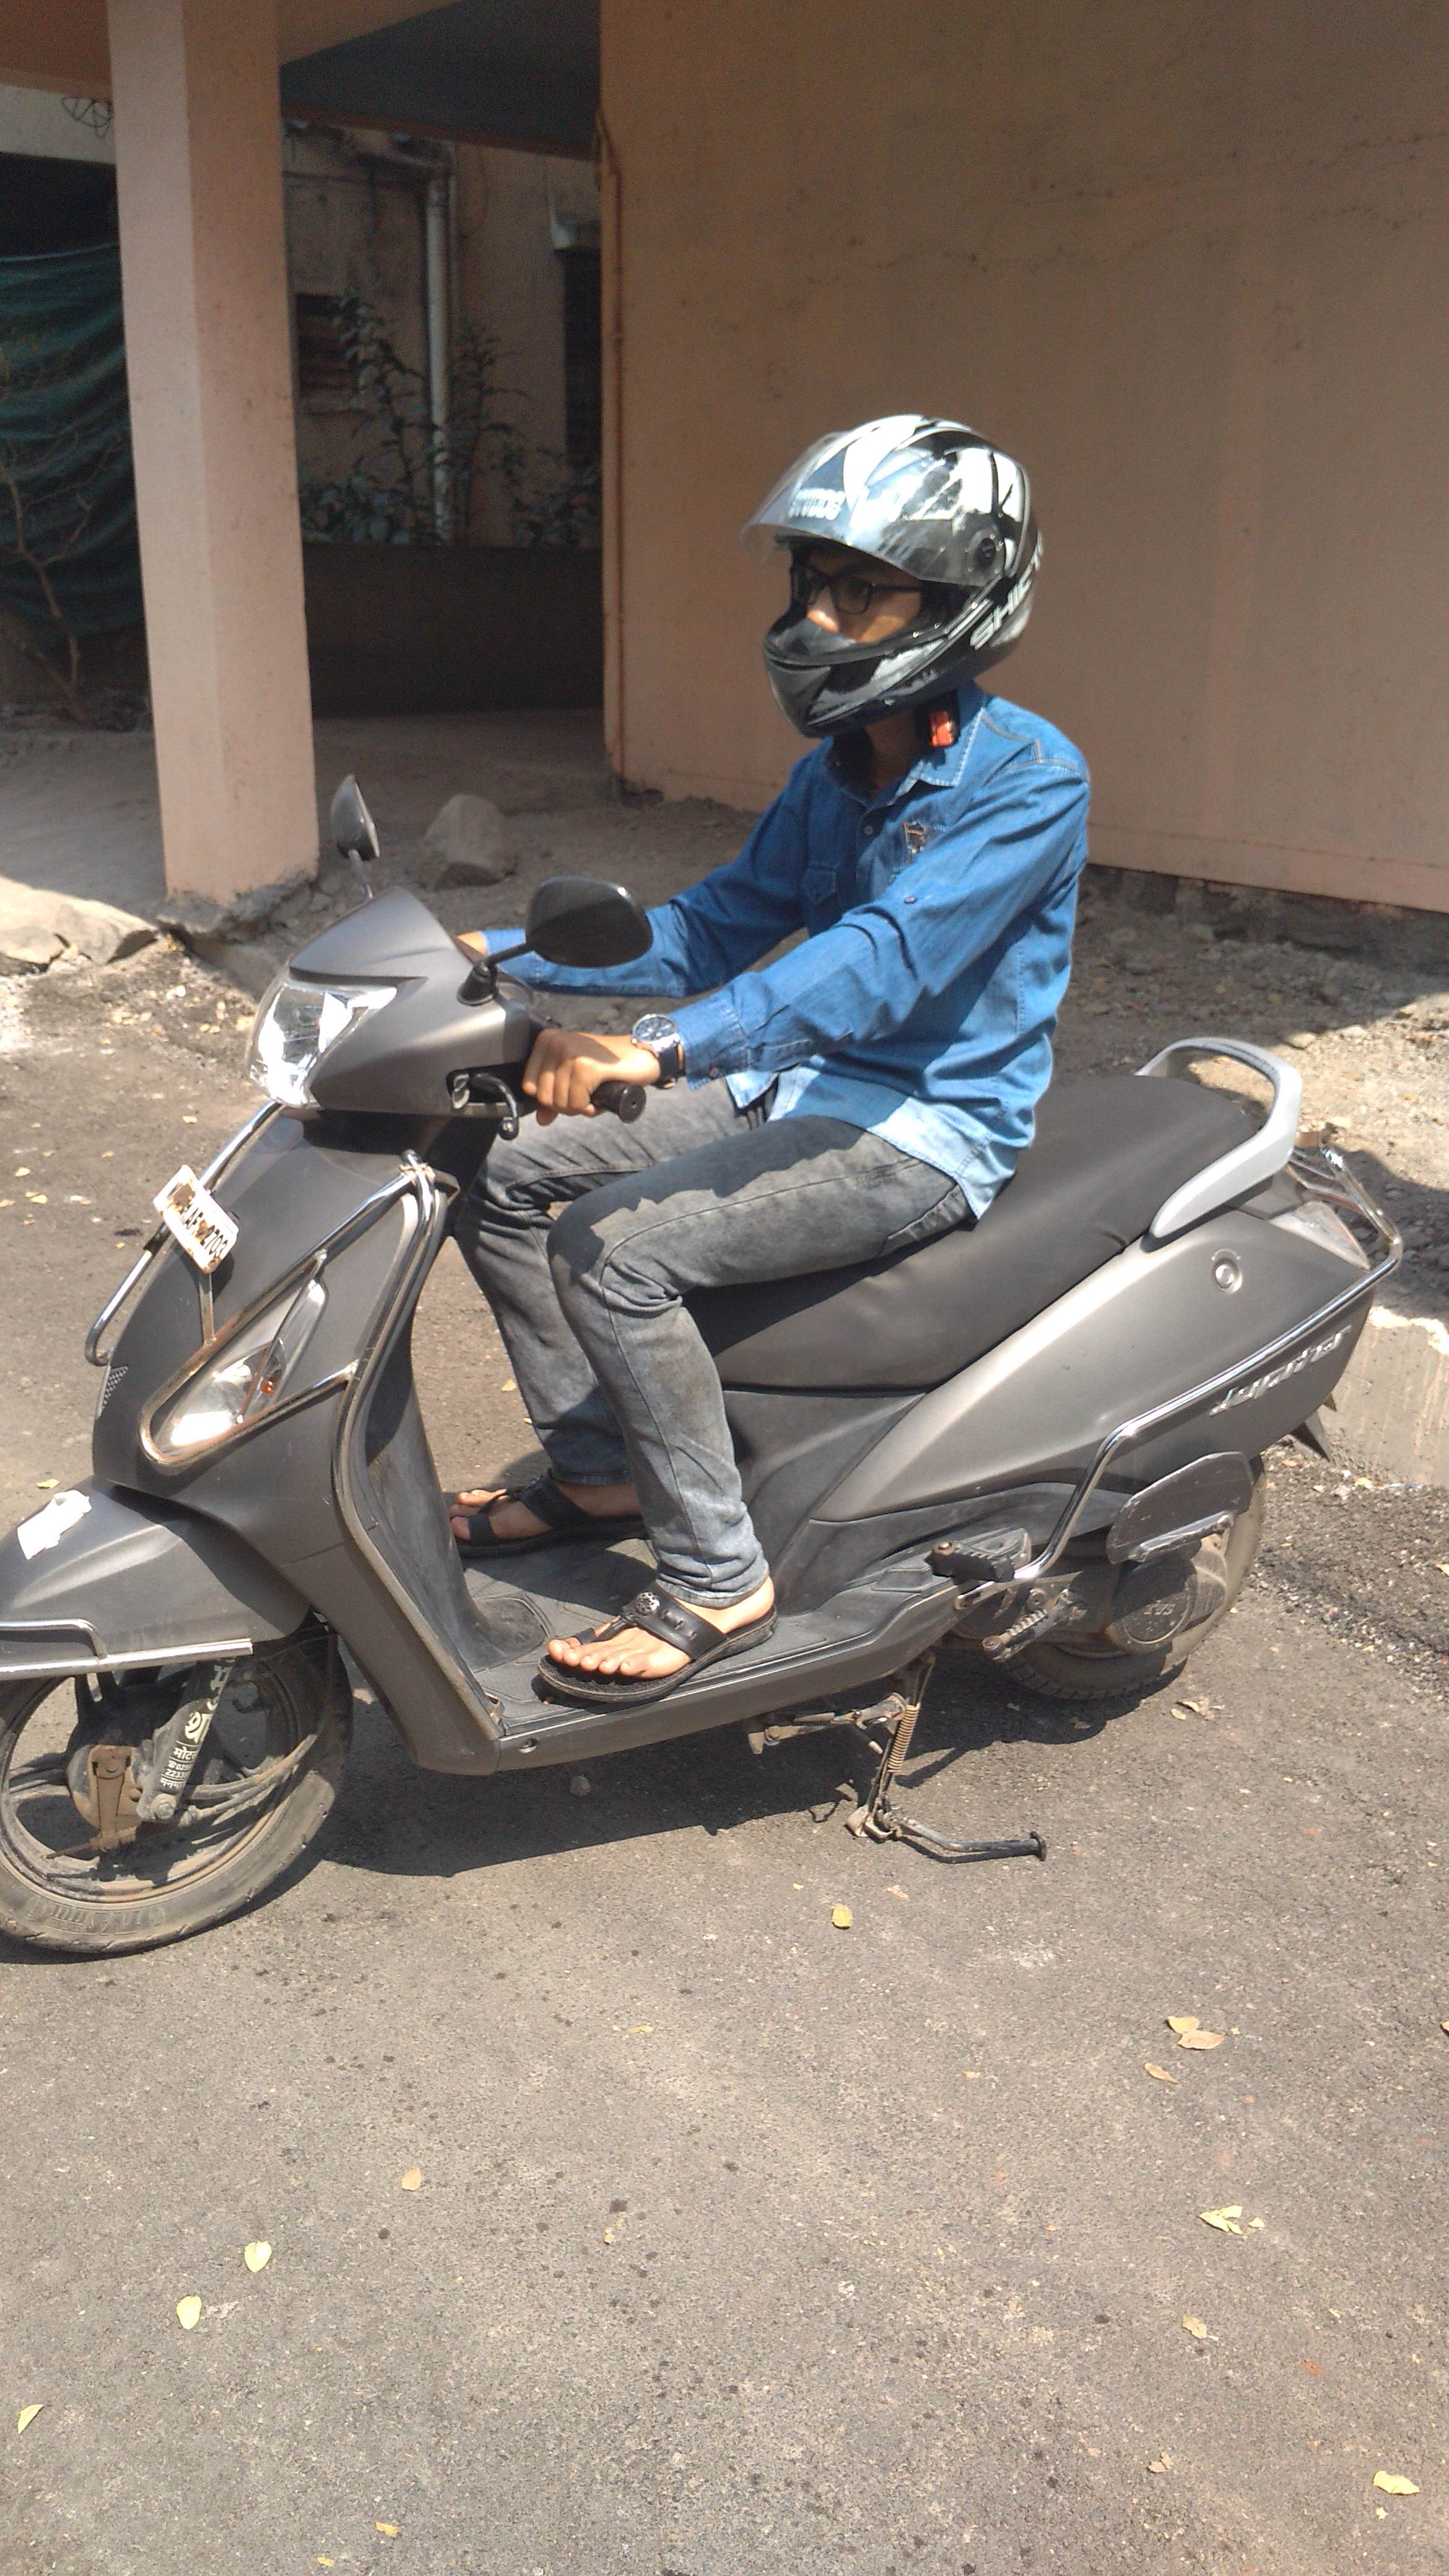helmet: (502, 363, 1100, 1334)
